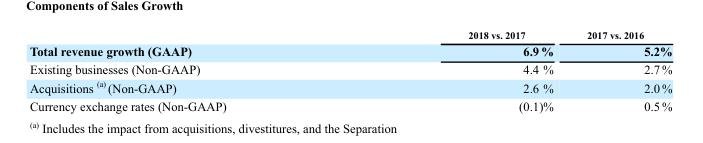table: (28, 29, 671, 112)
table column: (28, 29, 346, 112), (346, 29, 569, 112), (569, 29, 671, 112)
table column header: (28, 29, 671, 42)
table row: (28, 77, 671, 96), (28, 59, 671, 77), (28, 42, 671, 59), (28, 96, 671, 112), (28, 29, 671, 42)
